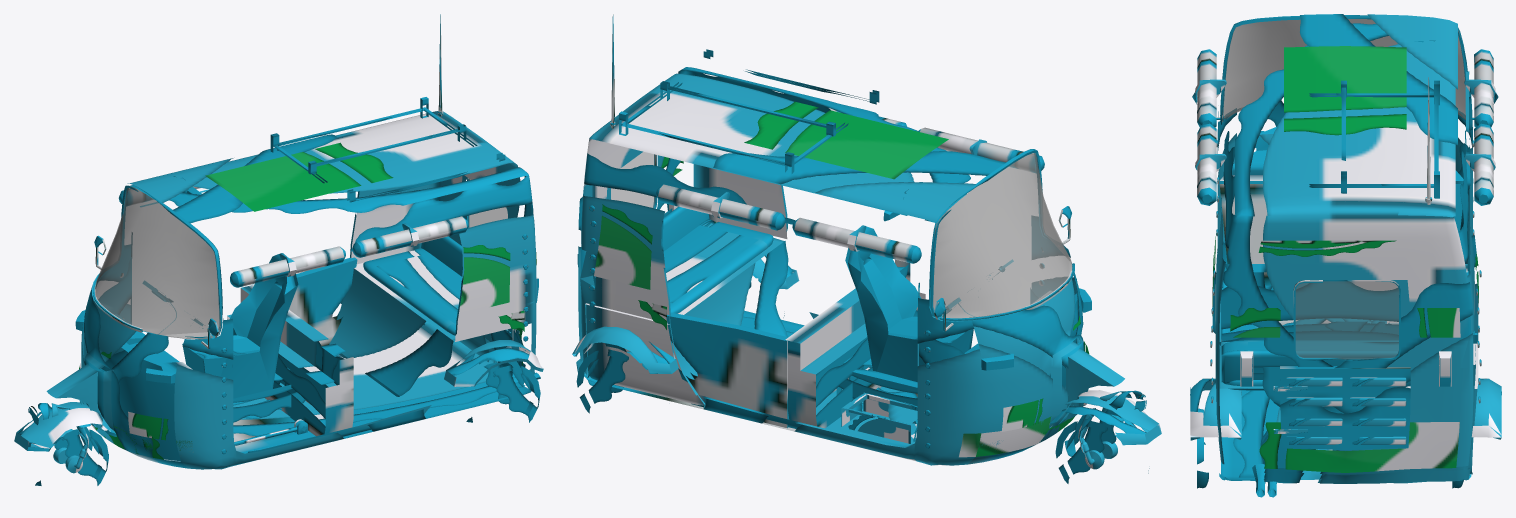
Rendered from 3wheel.FBX.
The picture shows the model from 3 angles, left to right: view 1: azimuth 30°, elevation 25°; view 2: azimuth 150°, elevation 25°; view 3: azimuth 270°, elevation 25°; orthographic projection. The views are drawn at different scales.
Parts seen in each view (by area): view 1: 3 wheel (tuck tuck) Sri lanka, glss, logo; view 2: 3 wheel (tuck tuck) Sri lanka, glss, logo; view 3: 3 wheel (tuck tuck) Sri lanka, logo, glss.
Part boxes in pixels (x1,y1,x2,y2): 3 wheel (tuck tuck) Sri lanka: [14, 14, 543, 485]; glss: [95, 179, 507, 339]; logo: [79, 142, 536, 459]; 3 wheel (tuck tuck) Sri lanka: [572, 14, 1161, 483]; glss: [611, 152, 1072, 318]; logo: [581, 101, 1089, 457]; 3 wheel (tuck tuck) Sri lanka: [1190, 14, 1501, 497]; logo: [1212, 46, 1478, 472]; glss: [1222, 19, 1465, 359].
Size of the model in its own units: 548 by 390 by 245.
